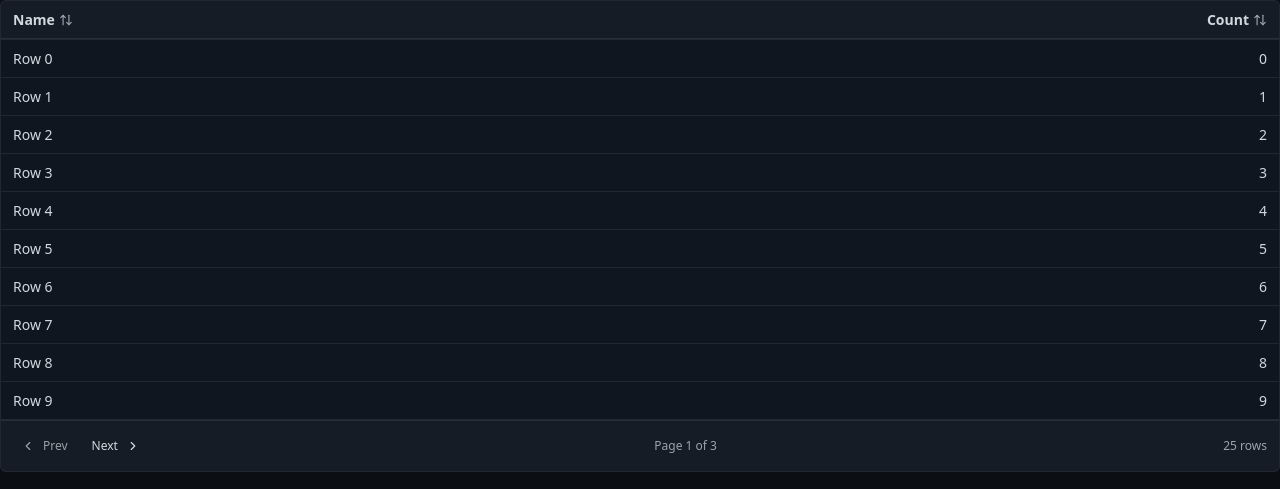
it: Table — pagination behavior › Next button is disabled on last page
The width and height of the screenshot is (1280, 489).
Click the button "Next": (116,446) [84,433,148,459]
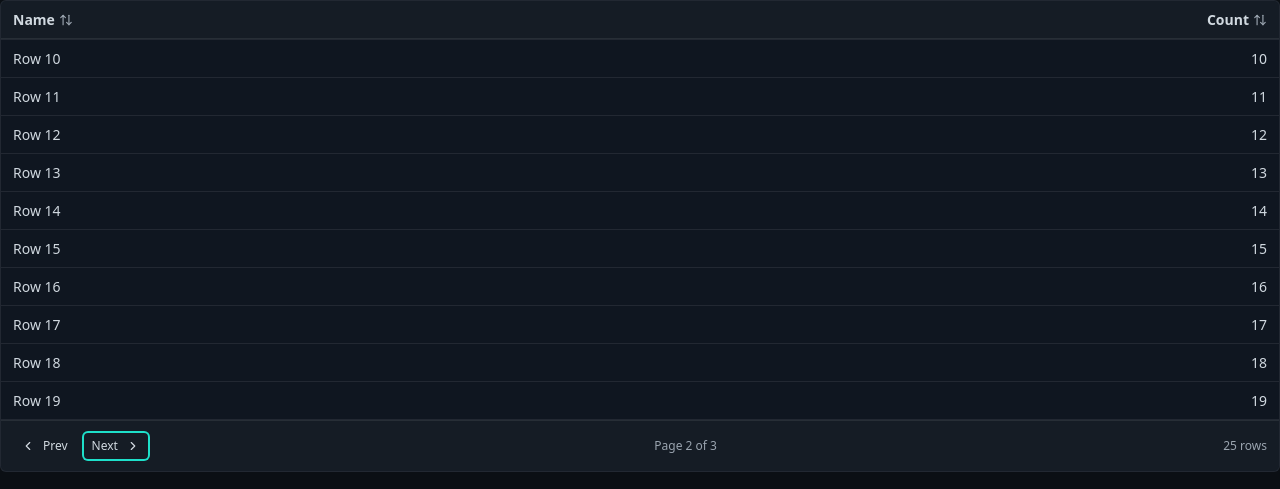
Click the button "Next": (116,446) [84,433,148,459]
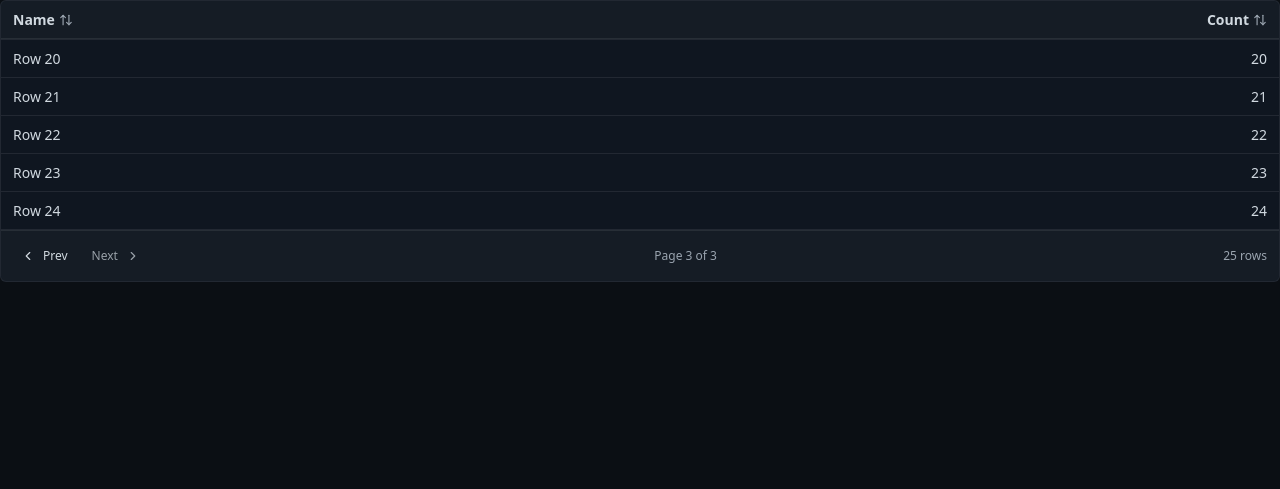
Expected: the text "Page 3 of 3" is shown, [654,247,717,265]
Expected: the button "Next" is disabled, [84,243,148,269]
